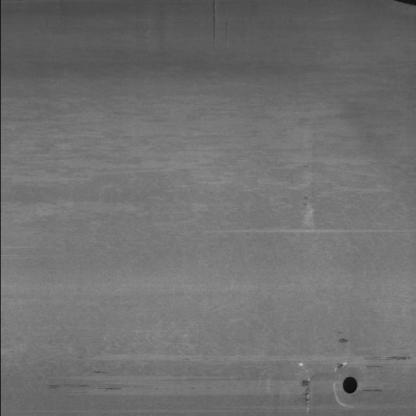punching_hole: (339, 374, 366, 397)
